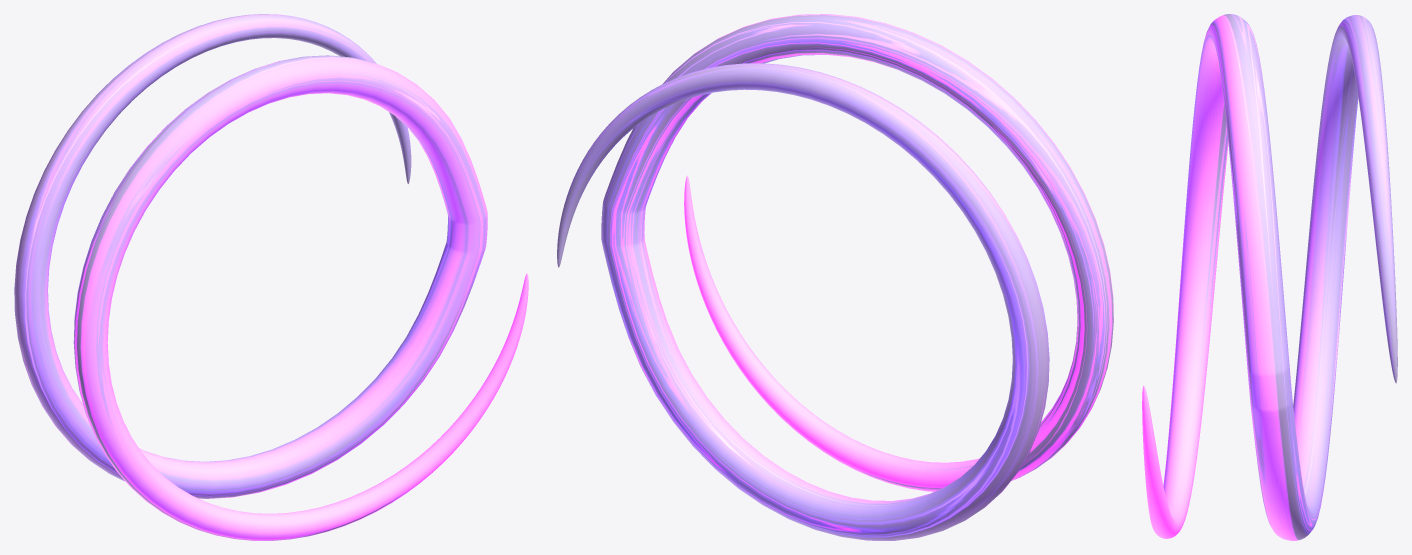
File: spline.glb
3 views of the same model, side by side, from view 1: azimuth 30°, elevation 25°; view 2: azimuth 150°, elevation 25°; view 3: azimuth 270°, elevation 25° (orthographic). The views are drawn at different scales.
Visible parts, largest first — view 1: Capsule; view 2: Capsule; view 3: Capsule.
Part boxes in pixels (left/top/right/bottom): Capsule: left=14, top=14, right=528, bottom=540; Capsule: left=557, top=14, right=1113, bottom=540; Capsule: left=1142, top=14, right=1397, bottom=540.
Size of the model in its own units: 8997 by 8831 by 4286.
